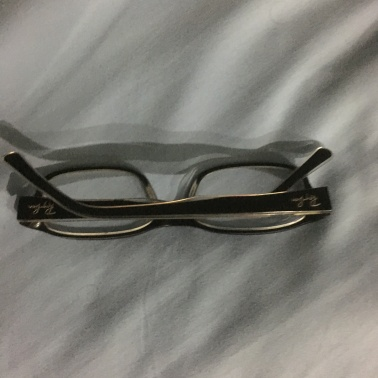glasses: (7, 144, 356, 246)
